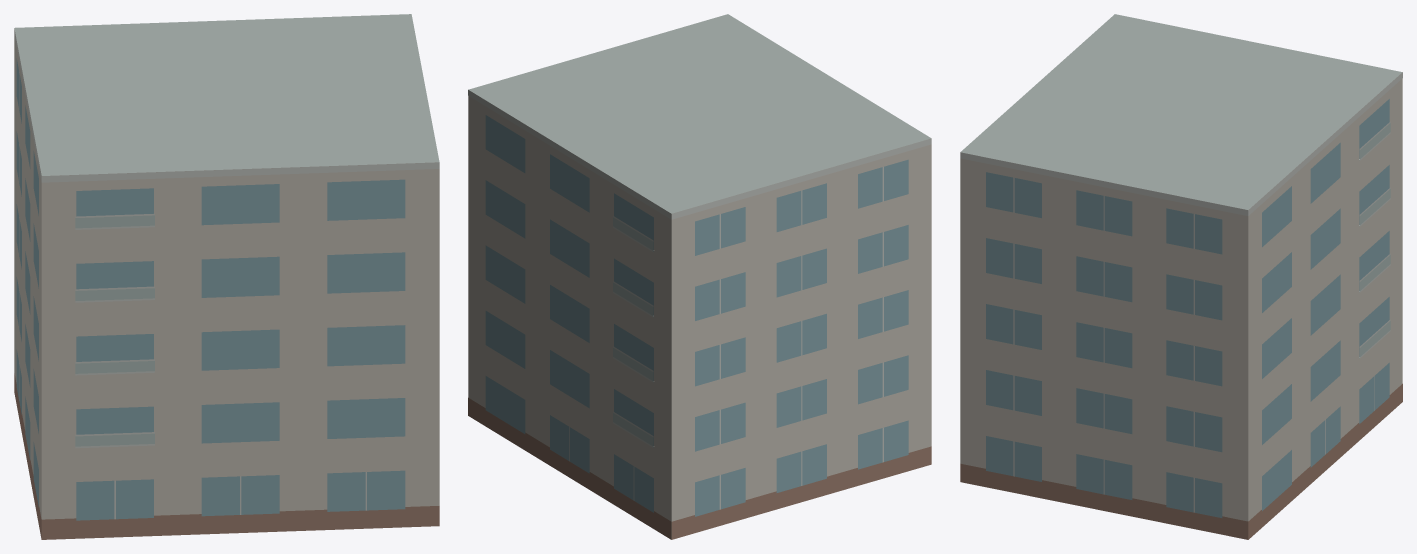
File: survey-upis-33032587.glb
3 views of the same model, side by side, from view 1: azimuth 30°, elevation 25°; view 2: azimuth 150°, elevation 25°; view 3: azimuth 270°, elevation 25° (orthographic). The views are drawn at different scales.
Visible parts, largest first — view 1: survey-upis-33032587.tmp; view 2: survey-upis-33032587.tmp; view 3: survey-upis-33032587.tmp.
Part boxes in pixels (<box>): survey-upis-33032587.tmp: <box>14,14,439,539</box>; survey-upis-33032587.tmp: <box>468,14,931,539</box>; survey-upis-33032587.tmp: <box>960,14,1402,539</box>.
Bounding box in the file's own units: 16.98 × 13.3 × 16.19.
